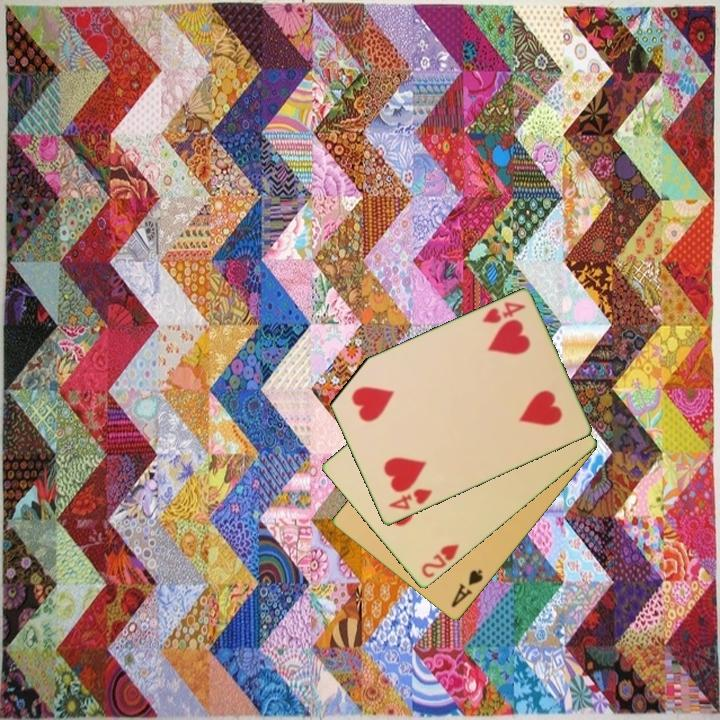2h: (418, 541, 462, 581)
4h: (478, 299, 529, 327), (385, 485, 435, 513)
As: (447, 566, 486, 611)
